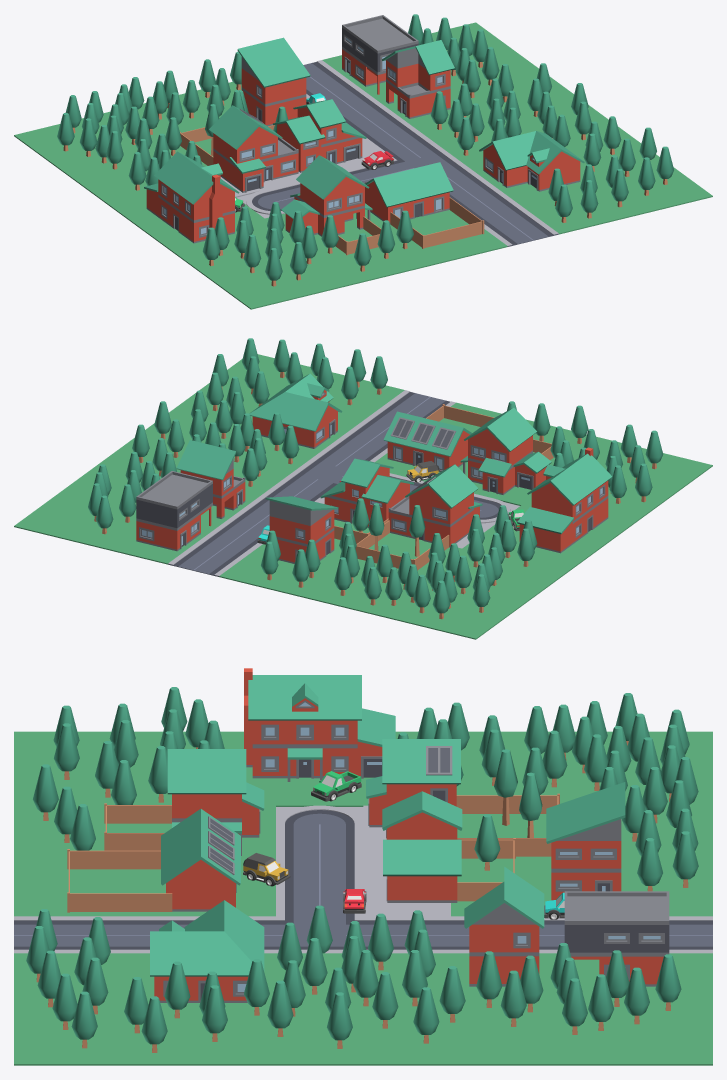
The model's file is suburban_block2.fbx.
3 renders of one model, top to bottom at view 1: azimuth 30°, elevation 25°; view 2: azimuth 150°, elevation 25°; view 3: azimuth 270°, elevation 25°, orthographic. The views are drawn at different scales.
Parts seen in each view (by area): view 1: house_type08, house_type11, house_type15, house_type17, house_type05, house_type16, house_type14, house_type01, house_type20, tile_low__37_, road_straight__7_, fence_large__1_ (+45 smaller); view 2: house_type08, house_type17, house_type20, house_type11, house_type05, house_type01, house_type15, house_type14, house_type16, tile_low__57_, tile_low__20_, road_straight__5_ (+39 smaller); view 3: house_type08, house_type14, house_type20, house_type05, house_type15, house_type01, house_type17, house_type16, house_type11, fence_large__1_, tile_low__55_, tile_low__57_ (+122 smaller).
Boxes of the visible parts, box(x1,y1,x2,y2) form: house_type08: box(144, 151, 239, 243); house_type11: box(209, 105, 298, 192); house_type15: box(237, 37, 310, 126); house_type17: box(281, 155, 372, 236); house_type05: box(479, 131, 584, 191); house_type16: box(382, 40, 454, 118); house_type14: box(273, 99, 366, 172); house_type01: box(365, 162, 453, 223); house_type20: box(342, 15, 418, 94); tile_low__37_: box(221, 276, 302, 309); road_straight__7_: box(484, 212, 558, 246); fence_large__1_: box(390, 197, 484, 248); house_type08: box(517, 447, 612, 553); house_type17: box(460, 407, 551, 494); house_type20: box(136, 471, 212, 551); house_type11: box(388, 464, 482, 547); house_type05: box(249, 373, 342, 448); house_type01: box(383, 411, 471, 471); house_type15: box(265, 496, 338, 563); house_type14: box(320, 458, 414, 527); house_type16: box(176, 440, 245, 518); tile_low__57_: box(14, 504, 94, 539); tile_low__20_: box(424, 604, 505, 639); road_straight__5_: box(168, 542, 248, 576); house_type08: box(244, 668, 395, 781); house_type14: box(382, 791, 462, 902); house_type20: box(564, 891, 669, 986); house_type05: box(150, 900, 264, 1002); house_type15: box(546, 782, 625, 900); house_type01: box(161, 809, 240, 911); house_type17: box(167, 749, 264, 855); house_type16: box(464, 867, 544, 986); house_type11: box(366, 739, 460, 839); fence_large__1_: box(67, 849, 172, 912); tile_low__55_: box(451, 1027, 538, 1065); tile_low__57_: box(625, 1027, 712, 1065).
Size of the model in its own units: 900 by 122 by 800.
